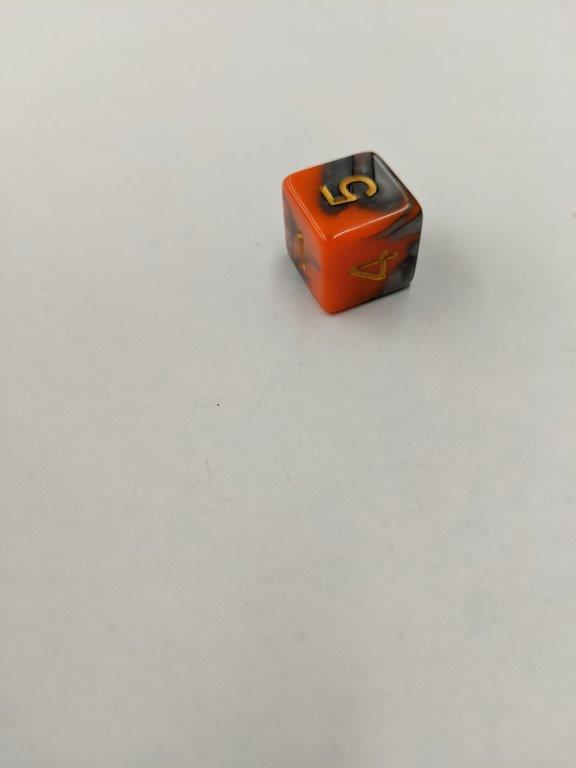d6-5: (282, 149, 424, 312)
